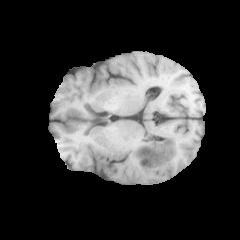glioma: (131, 136, 178, 175)
